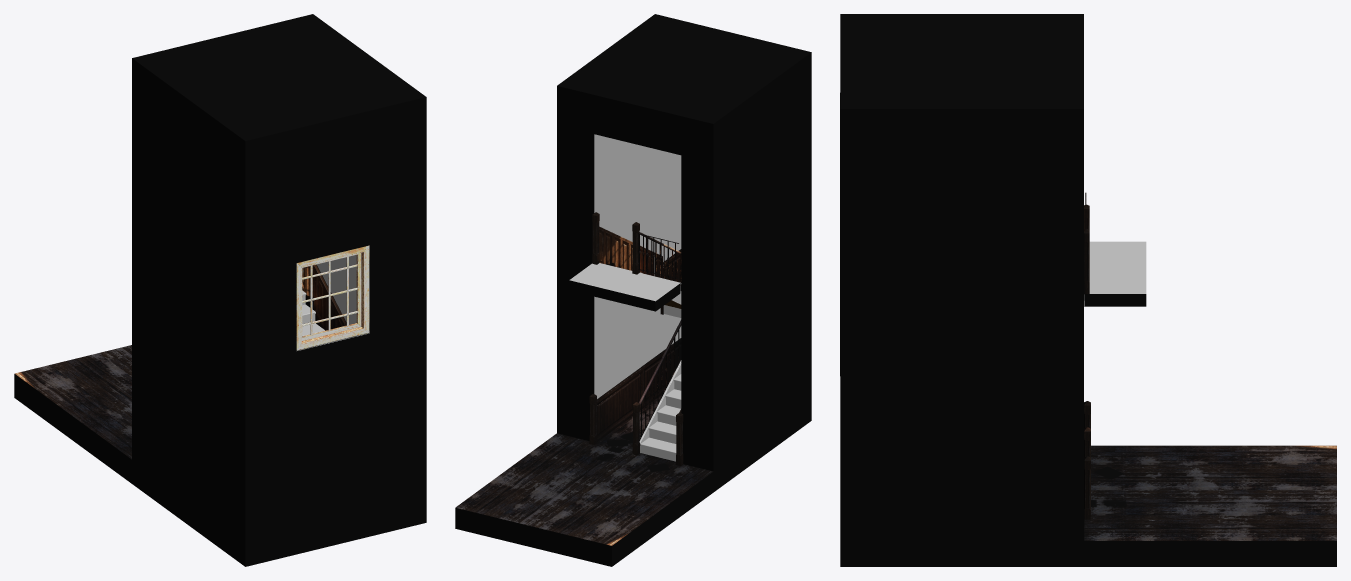
Rendered from Stairs.fbx.
3 views of the same model, side by side, from view 1: azimuth 30°, elevation 25°; view 2: azimuth 150°, elevation 25°; view 3: azimuth 270°, elevation 25° (orthographic). The views are drawn at different scales.
Parts seen in each view (by area): view 1: paret.001, terra_baked, finestra unida baked, motllura fusta_baked; view 2: paret.001, terra_baked, escales baked, motllura fusta_baked, brana 2 acoplada_baked, escales lateral Baked; view 3: paret.001, terra_baked, escales baked, escales lateral Baked.
Part boxes in pixels (x1=…): paret.001: x1=132, y1=14, x2=426, y2=543; terra_baked: x1=14, y1=345, x2=426, y2=566; finestra unida baked: x1=296, y1=245, x2=369, y2=350; motllura fusta_baked: x1=302, y1=264, x2=346, y2=330; paret.001: x1=557, y1=14, x2=811, y2=471; terra_baked: x1=455, y1=395, x2=811, y2=566; escales baked: x1=569, y1=263, x2=681, y2=461; motllura fusta_baked: x1=596, y1=226, x2=681, y2=441; brana 2 acoplada_baked: x1=638, y1=232, x2=681, y2=440; escales lateral Baked: x1=589, y1=212, x2=683, y2=465; paret.001: x1=840, y1=14, x2=1083, y2=541; terra_baked: x1=840, y1=445, x2=1336, y2=566; escales baked: x1=1084, y1=241, x2=1146, y2=306; escales lateral Baked: x1=1084, y1=204, x2=1090, y2=519.
Size of the model in its own units: 3263 by 7332 by 7211.
